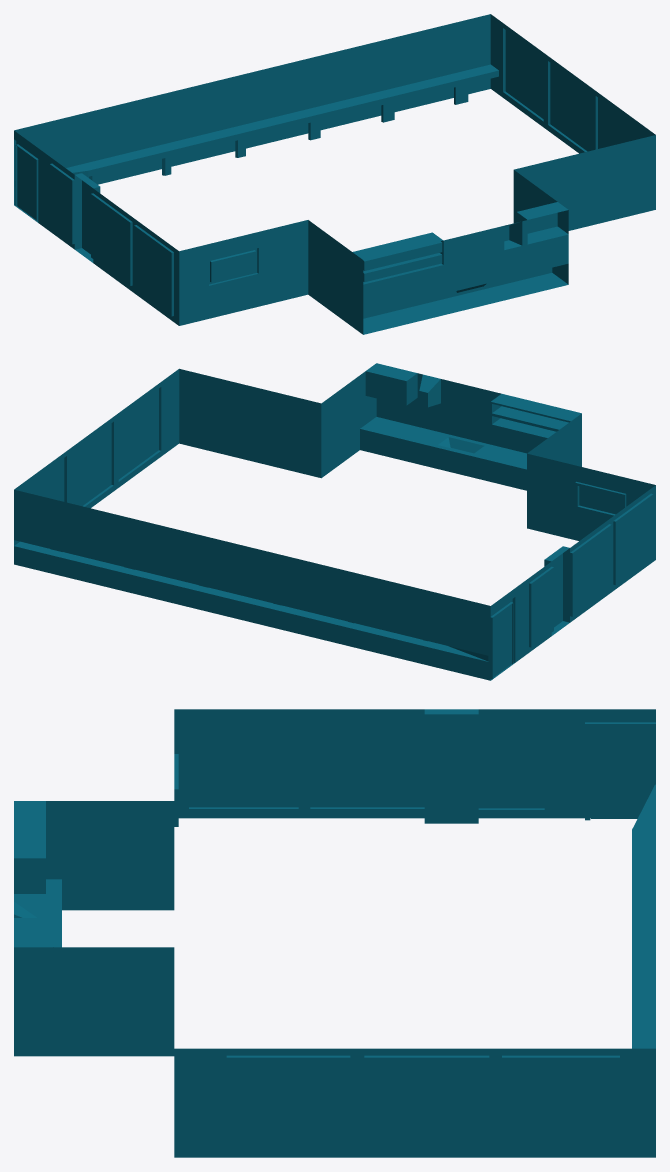
File: room.dae
3 renders of one model, top to bottom at view 1: azimuth 30°, elevation 25°; view 2: azimuth 150°, elevation 25°; view 3: azimuth 270°, elevation 25°, orthographic. The views are drawn at different scales.
Visible parts, largest first — view 1: Box02; view 2: Box02; view 3: Box02.
Boxes of the visible parts, <box> form: Box02: <box>14,14,655,334</box>; Box02: <box>14,363,655,680</box>; Box02: <box>14,709,655,1157</box>.
Bounding box in the file's own units: 795 × 630 × 119.
